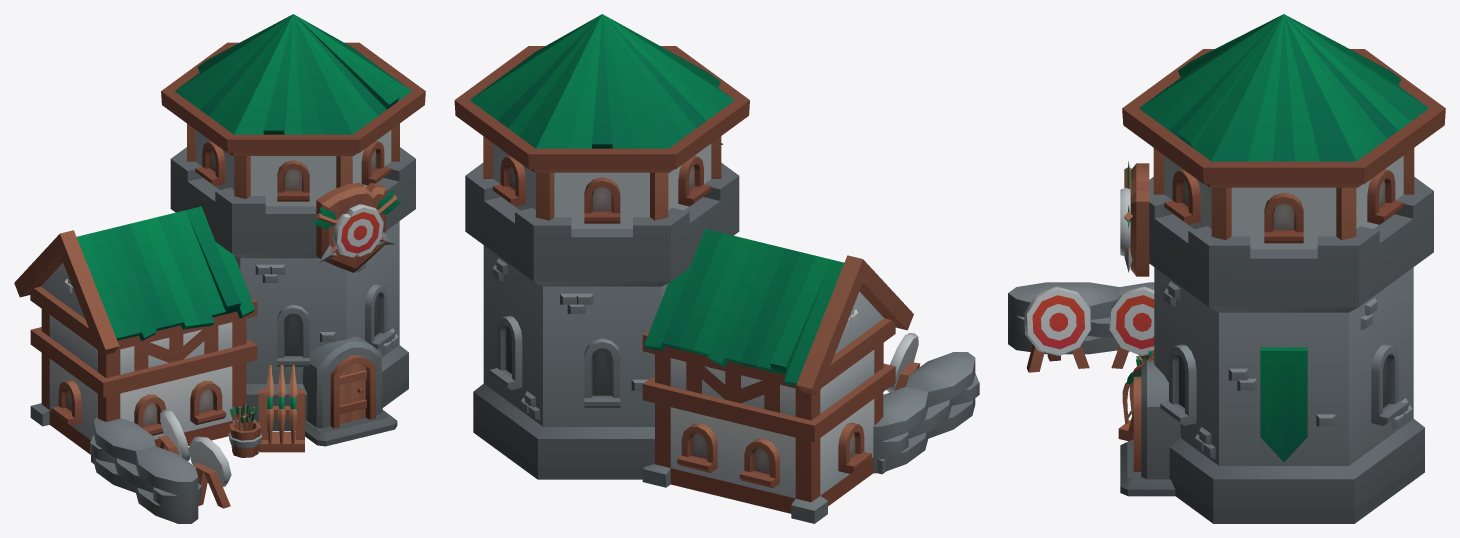
The model's file is H_archeryrange_green.glb.
3 renders of one model, left to right at view 1: azimuth 30°, elevation 25°; view 2: azimuth 150°, elevation 25°; view 3: azimuth 270°, elevation 25°, orthographic. The views are drawn at different scales.
Visible parts, largest first — view 1: building_archeryrange_green; view 2: building_archeryrange_green; view 3: building_archeryrange_green.
Boxes of the visible parts, x1,y1,x2,y2 form: building_archeryrange_green: (14, 14, 425, 523); building_archeryrange_green: (454, 14, 979, 523); building_archeryrange_green: (1008, 14, 1445, 523).
Bounding box in the file's own units: 1.67 × 1.79 × 1.55.
